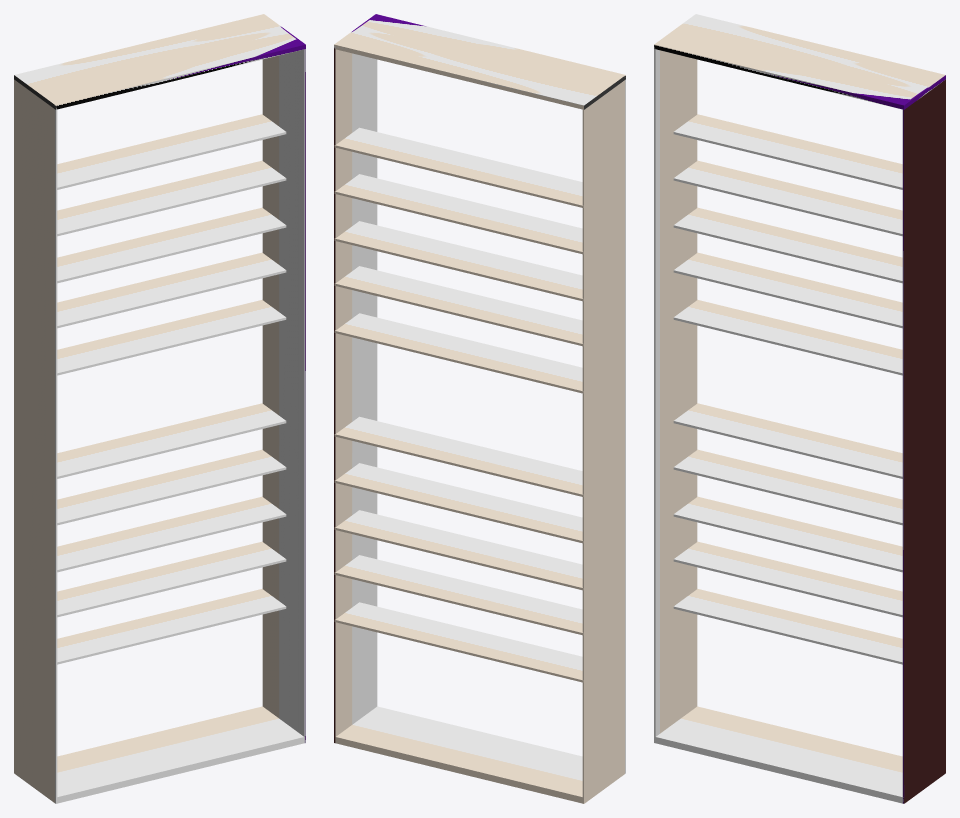
File: prateleira.fbx
The picture shows the model from 3 angles, left to right: view 1: azimuth 30°, elevation 25°; view 2: azimuth 150°, elevation 25°; view 3: azimuth 330°, elevation 25°; orthographic projection.
Parts seen in each view (by area): view 1: prateleira; view 2: prateleira; view 3: prateleira.
Boxes of the visible parts, x1,y1,x2,y2 form: prateleira: (14,14,305,803); prateleira: (334,14,625,803); prateleira: (654,14,945,803).
Size of the model in its own units: 9.85 by 26.28 by 2.87.
